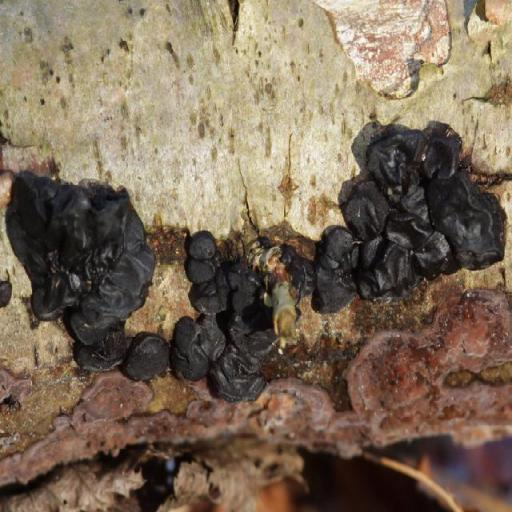mushroom: (317, 128, 506, 308), (6, 171, 166, 374), (175, 236, 278, 395)
